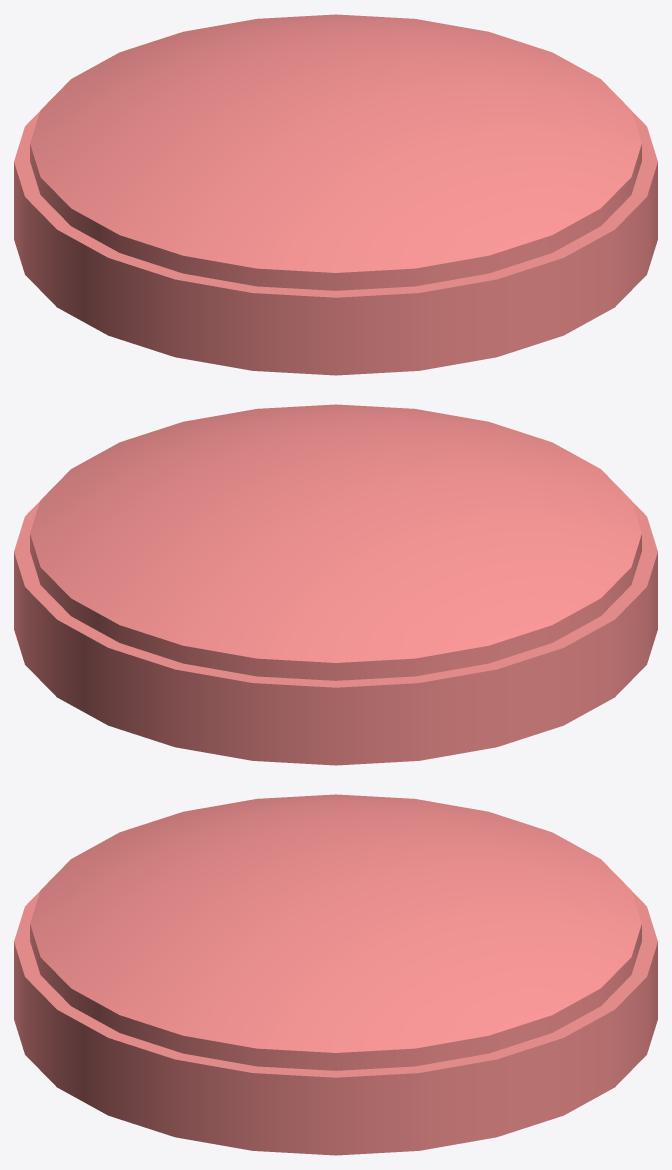
File: Light_DengPian7_1D5X1D5_off.FBX
The picture shows the model from 3 angles, top to bottom: view 1: azimuth 30°, elevation 25°; view 2: azimuth 150°, elevation 25°; view 3: azimuth 270°, elevation 25°; orthographic projection.
Visible parts, largest first — view 1: Box003; view 2: Box003; view 3: Box003.
Part boxes in pixels (left/top/right/bottom): Box003: left=14, top=14, right=657, bottom=375; Box003: left=14, top=404, right=657, bottom=765; Box003: left=14, top=794, right=657, bottom=1155.
Size of the model in its own units: 1.5 by 0.396 by 1.5.
